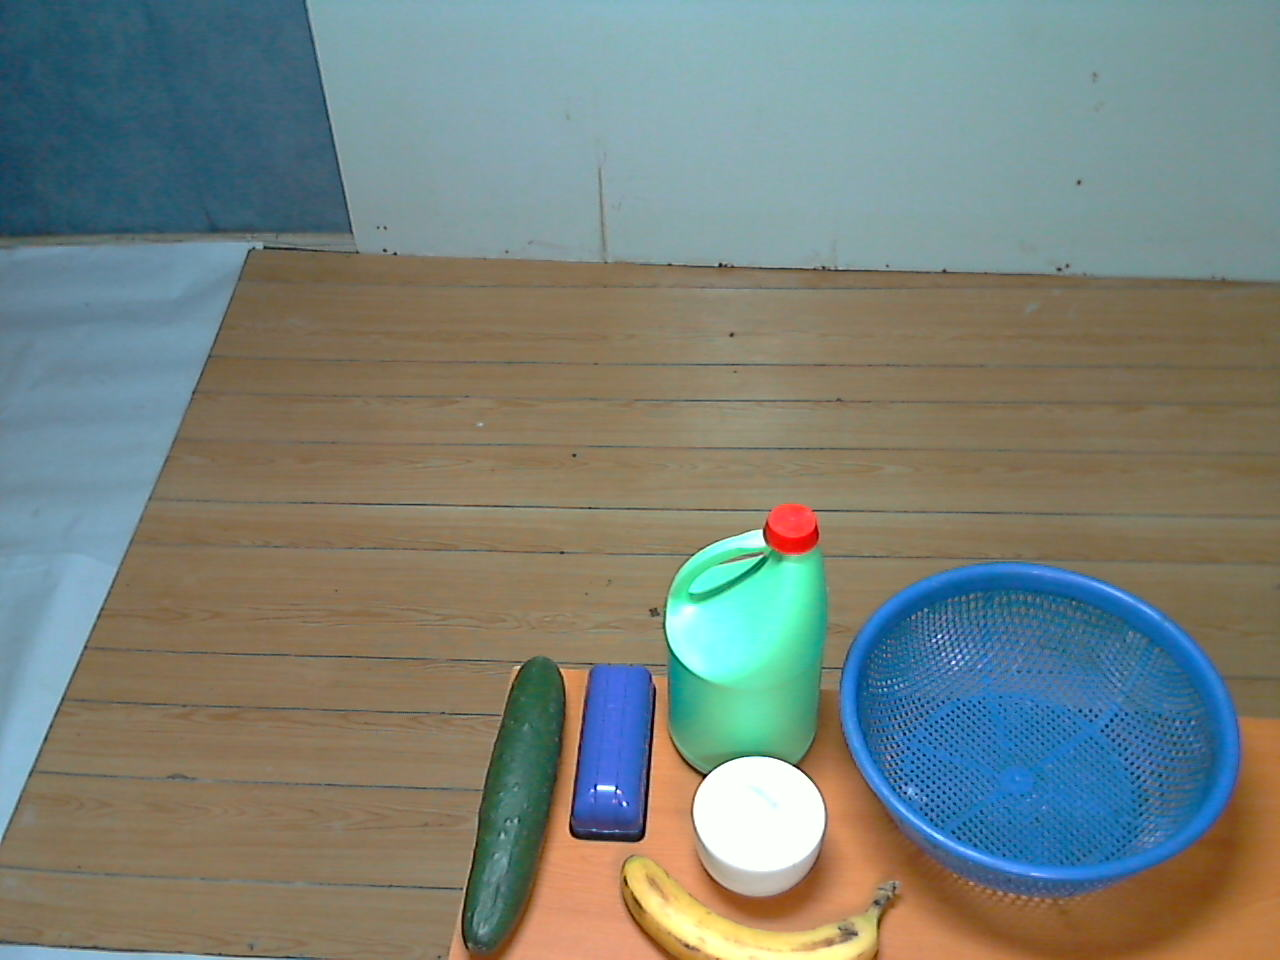azucarero: (677, 747, 842, 907)
borrador: (564, 646, 663, 862)
cloroplano: (651, 500, 842, 794)
colador: (823, 545, 1251, 911)
pepino: (452, 648, 583, 960)
platano: (607, 841, 910, 960)
